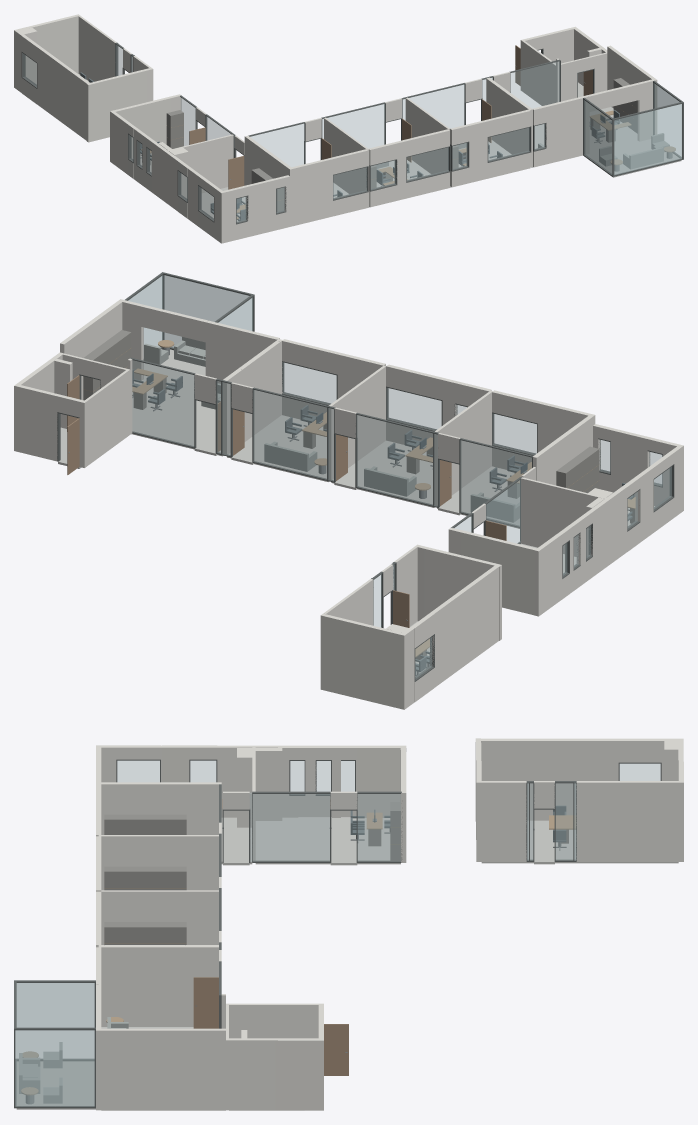
The picture shows the model from 3 angles, top to bottom: view 1: azimuth 30°, elevation 25°; view 2: azimuth 150°, elevation 25°; view 3: azimuth 270°, elevation 25°; orthographic projection. The views are drawn at different scales.
Parts seen in each view (by area): view 1: VIP glass pane | build-up provisional 06, VIP glass pane | build-up provisional 05, Wall | PDF vector 4-8 01, Wall | PDF vector 21-35 01, Wall | PDF vector 33-70 01, Wall | PDF vector 0-0 01, Wall | PDF vector 22-38 01, Glass partition | PDF vector 28 02.003, Wall | PDF vector 30-65 01, Wall | PDF vector 43-88 01 | joined corner 02, Wall | PDF vector 2-4 01, Wall | PDF vector 42-84 01 | joined corner 01 (+48 smaller); view 2: Wall | PDF vector 0-0 01, Glass partition | PDF vector 28 01.001, Glass partition | PDF vector 28 01.002, Glass partition | PDF vector 28 02.003, Glass partition | PDF vector 28 01, Wall | PDF vector 30-65 01, Floor | 100 mm provisional visualization thickness 01.006, Wall | PDF vector 22-38 01, Wall | PDF vector 4-8 01, Wall | PDF vector 2-4 01, Wall | PDF vector 2-5 01, Wall | PDF vector 42-84 01 | joined corner 01 (+37 smaller); view 3: Wall | PDF vector 55-104 01 | joined corner 01, Wall | PDF vector 33-70 01, Wall | PDF vector 49-96 01 | joined corner 04, CFO-GM boundary partition | dashed source, type unresolved 0, VIP glass pane | build-up provisional 04, VIP glass pane | build-up provisional 03, Floor | 100 mm provisional visualization thickness 01.001, Glass partition | PDF vector 32 02, Wall | PDF vector 2-4 01, Wall | PDF vector 2-3 01, Wall | PDF vector 2-5 01, Wall | PDF vector 22-37 01 (+32 smaller).
Part boxes in pixels (left/top/right/bottom): VIP glass pane | build-up provisional 06: left=614, top=104, right=681, bottom=174; VIP glass pane | build-up provisional 05: left=614, top=104, right=681, bottom=174; Wall | PDF vector 4-8 01: left=86, top=67, right=153, bottom=142; Wall | PDF vector 21-35 01: left=545, top=95, right=589, bottom=164; Wall | PDF vector 33-70 01: left=78, top=15, right=116, bottom=81; Wall | PDF vector 0-0 01: left=14, top=14, right=79, bottom=88; Wall | PDF vector 22-38 01: left=168, top=134, right=233, bottom=193; Glass partition | PDF vector 28 02.003: left=511, top=61, right=559, bottom=108; Wall | PDF vector 30-65 01: left=113, top=94, right=181, bottom=157; Wall | PDF vector 43-88 01 | joined corner 02: left=289, top=162, right=318, bottom=226; Wall | PDF vector 2-4 01: left=324, top=117, right=369, bottom=206; Wall | PDF vector 42-84 01 | joined corner 01: left=522, top=42, right=555, bottom=105; Wall | PDF vector 0-0 01: left=320, top=613, right=406, bottom=709; Glass partition | PDF vector 28 01.001: left=357, top=415, right=432, bottom=504; Glass partition | PDF vector 28 01.002: left=254, top=390, right=326, bottom=478; Glass partition | PDF vector 28 02.003: left=132, top=360, right=193, bottom=446; Glass partition | PDF vector 28 01: left=461, top=440, right=531, bottom=525; Wall | PDF vector 30-65 01: left=448, top=528, right=536, bottom=615; Floor | 100 mm provisional visualization thickness 01.006: left=131, top=381, right=223, bottom=456; Wall | PDF vector 22-38 01: left=521, top=477, right=606, bottom=556; Wall | PDF vector 4-8 01: left=415, top=544, right=501, bottom=640; Wall | PDF vector 2-4 01: left=434, top=390, right=492, bottom=505; Wall | PDF vector 2-5 01: left=329, top=365, right=385, bottom=479; Wall | PDF vector 42-84 01 | joined corner 01: left=87, top=370, right=128, bottom=465; Wall | PDF vector 55-104 01 | joined corner 01: left=96, top=1028, right=225, bottom=1110; Wall | PDF vector 33-70 01: left=576, top=781, right=678, bottom=861; Wall | PDF vector 49-96 01 | joined corner 04: left=481, top=738, right=619, bottom=820; CFO-GM boundary partition | dashed source, type unresolved 0: left=105, top=945, right=184, bottom=1026; VIP glass pane | build-up provisional 04: left=15, top=1030, right=94, bottom=1106; VIP glass pane | build-up provisional 03: left=15, top=1030, right=94, bottom=1105; Floor | 100 mm provisional visualization thickness 01.001: left=255, top=817, right=400, bottom=864; Glass partition | PDF vector 32 02: left=253, top=794, right=329, bottom=860; Wall | PDF vector 2-4 01: left=98, top=835, right=218, bottom=890; Wall | PDF vector 2-3 01: left=98, top=782, right=221, bottom=834; Wall | PDF vector 2-5 01: left=101, top=890, right=218, bottom=944; Wall | PDF vector 22-37 01: left=481, top=781, right=526, bottom=861.
Size of the model in its own units: 26.24 by 3.4 by 25.17.
